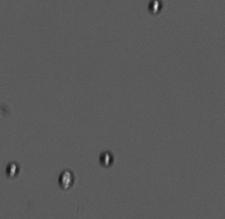Living Cell: (56, 166, 76, 190), (97, 150, 115, 167), (4, 162, 20, 178), (145, 1, 163, 14)
